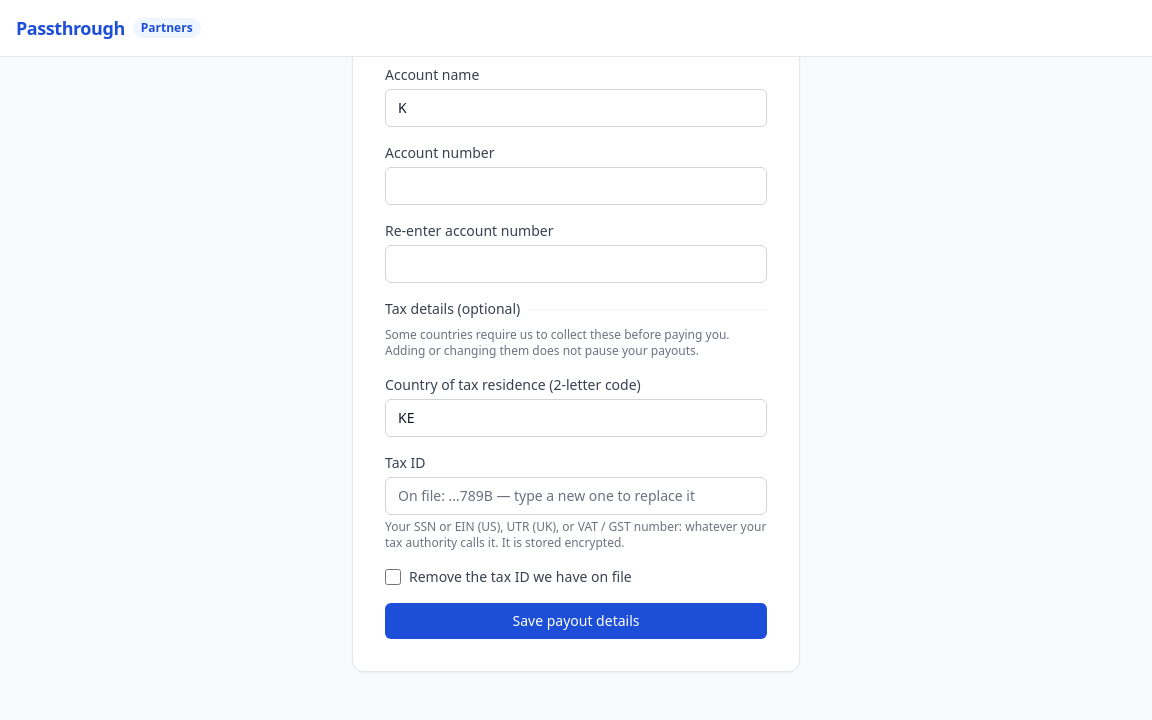
Test case: payout page: tax-only save and removal (section 4 fresh pass) › saves a new tax id without retyping the account number, sending only tax fields
The width and height of the screenshot is (1152, 720).
(page scrolled)
Type "T-998877" into the field labelled "Tax ID". click: (576, 496)
box: x1=385 y1=477 x2=767 y2=515
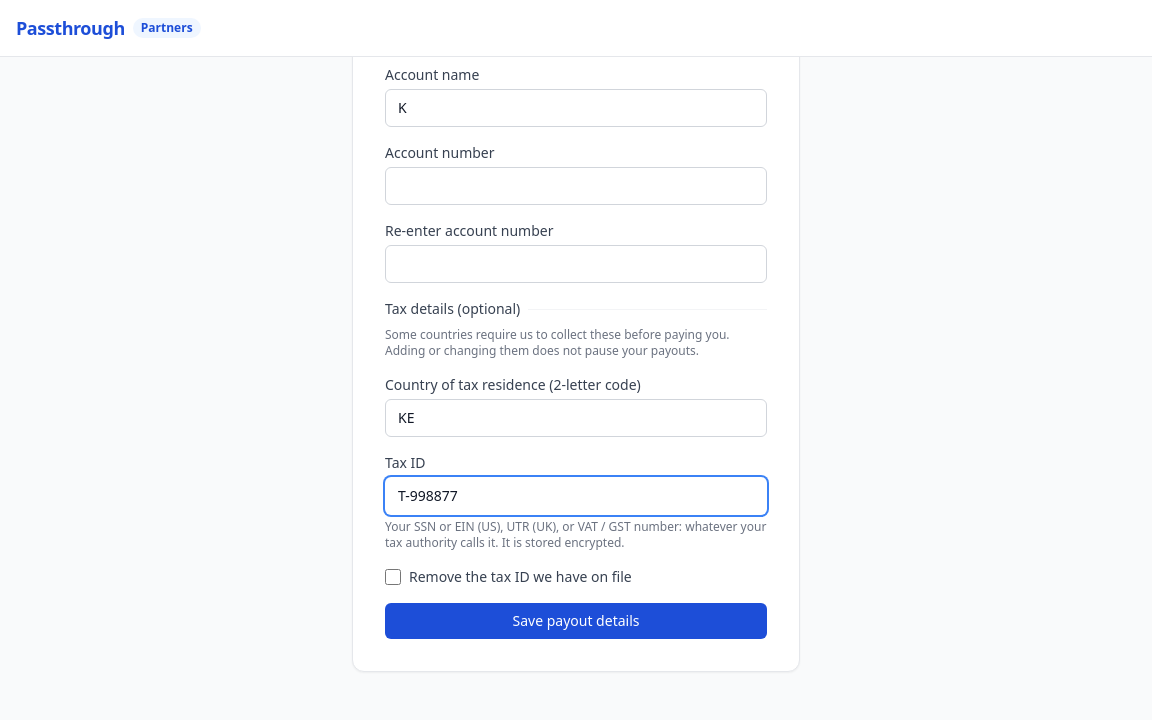
Click the button "Save payout details". click: (576, 621)
box: x1=385 y1=603 x2=767 y2=639
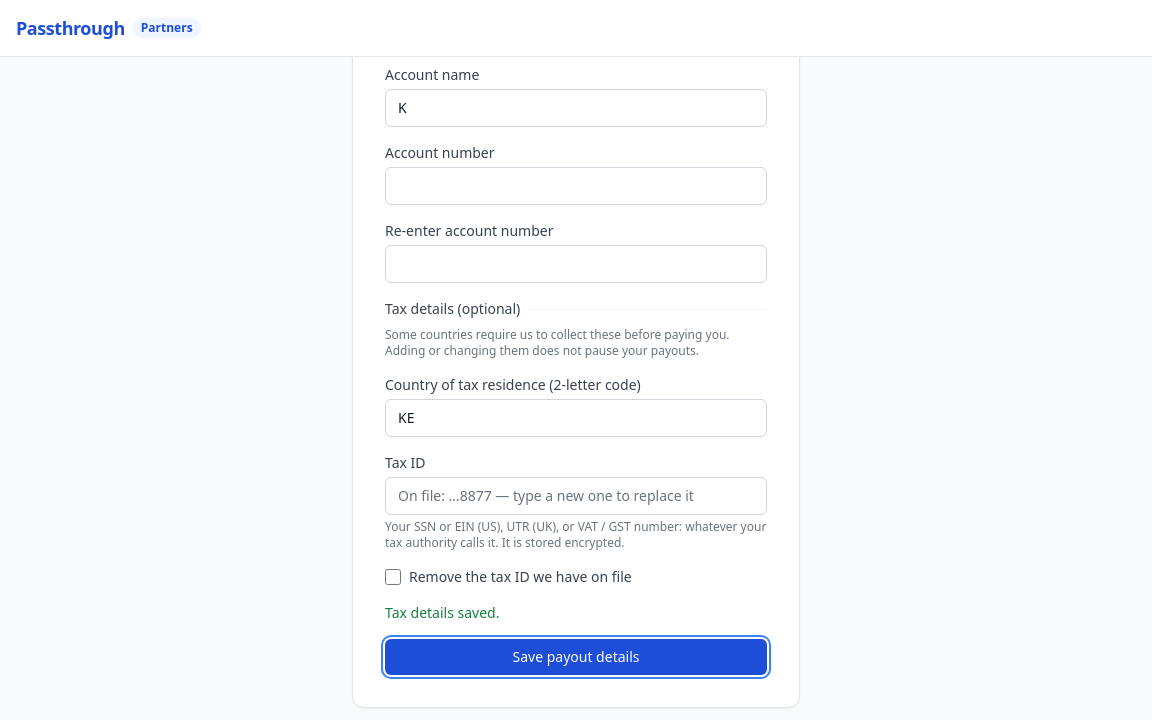
Expected: the message "Tax details saved." is shown, x1=385 y1=603 x2=500 y2=622
